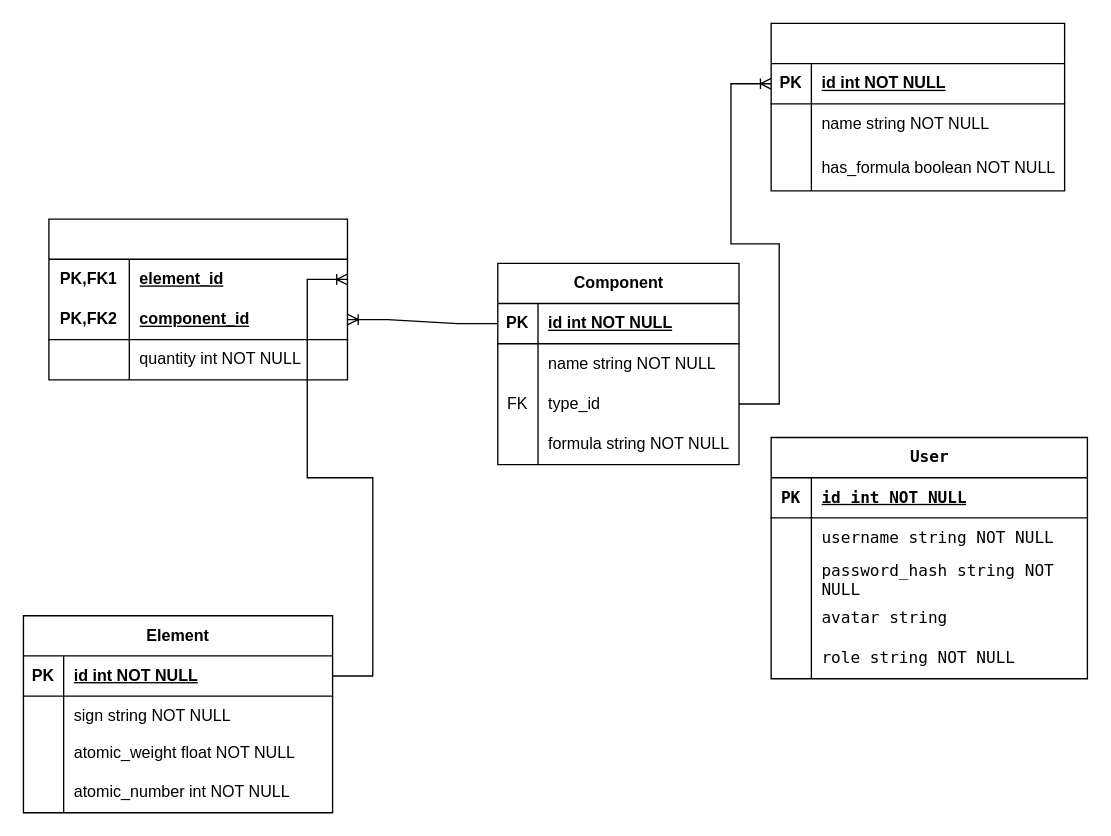
Some shapes in this 1111 by 836 pixel diagram are drawn without their labels. Here are the shapes that lost their labels. From the top down, the box of each, then its label:
(770, 22, 1065, 191): Component_types
(48, 218, 347, 380): Component_Element
